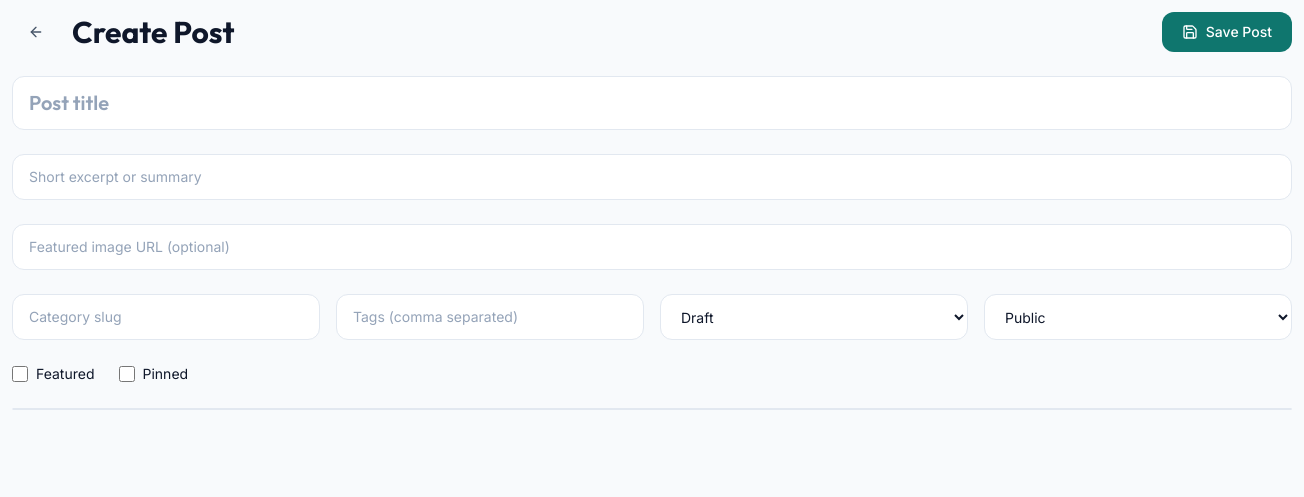
Test: AuthorEditorPage › handles save error
The width and height of the screenshot is (1304, 497).
Type "New Title" into the field with placeholder "Post title" at (652, 103), box [12,76,1292,130]
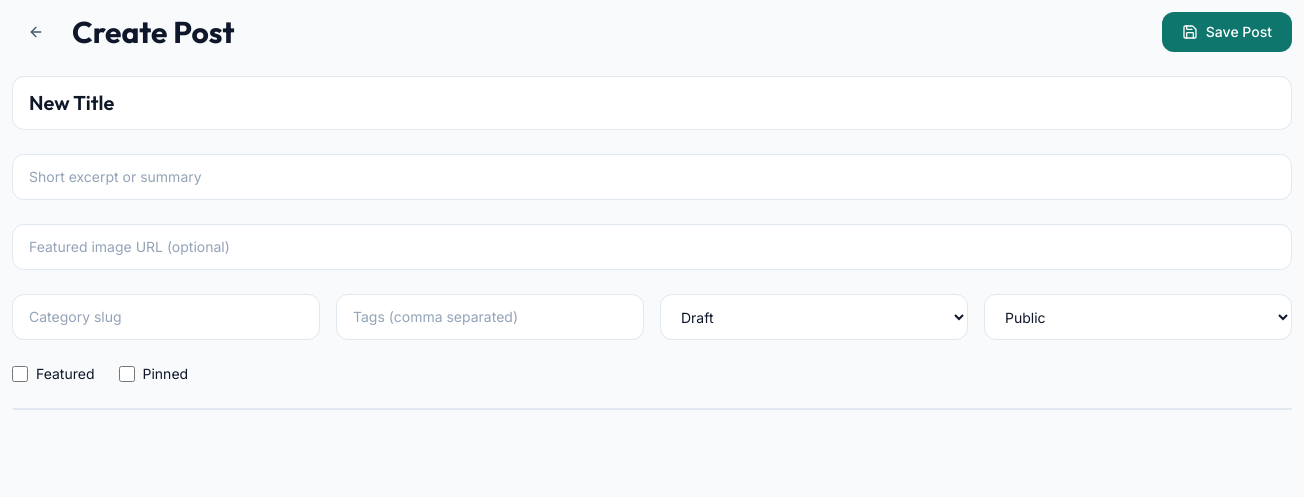
Click the button "Save Post" at (1227, 32), box [1162,12,1292,52]
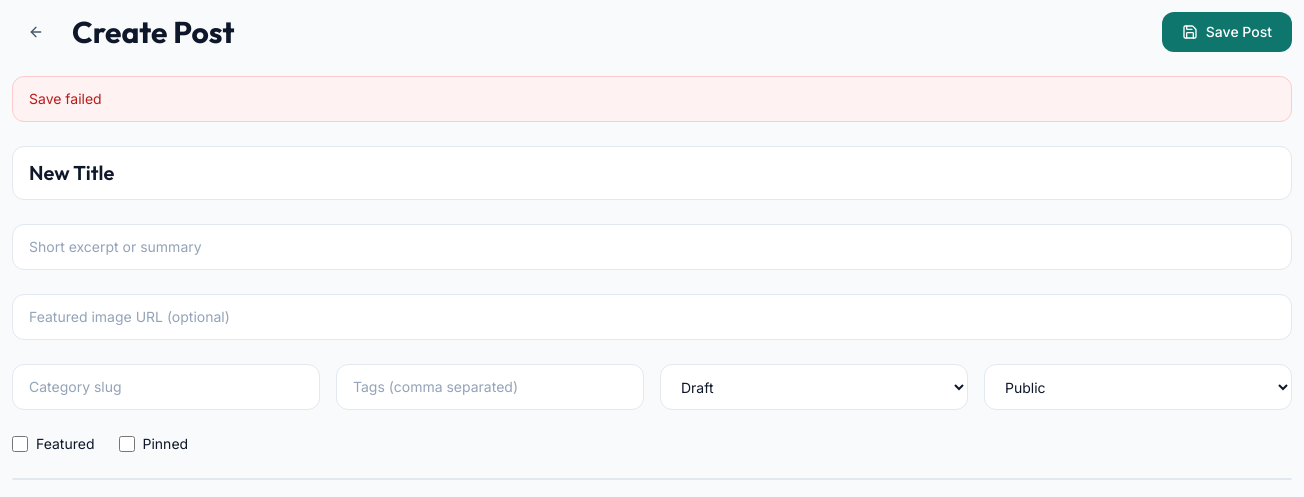
Now the text "Save failed" is shown, box [12,76,1292,122]
